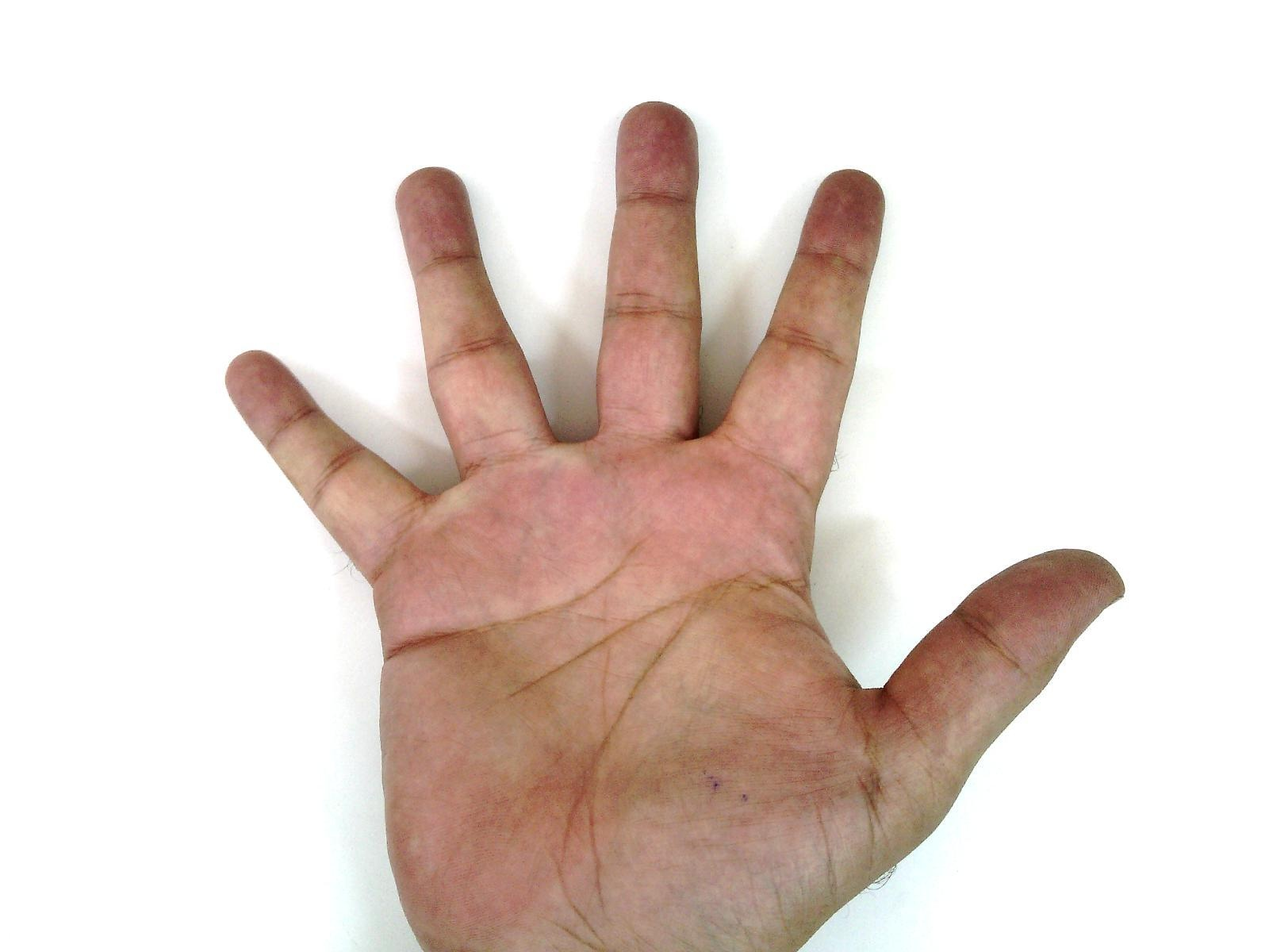open_palm: (222, 99, 1127, 951)
